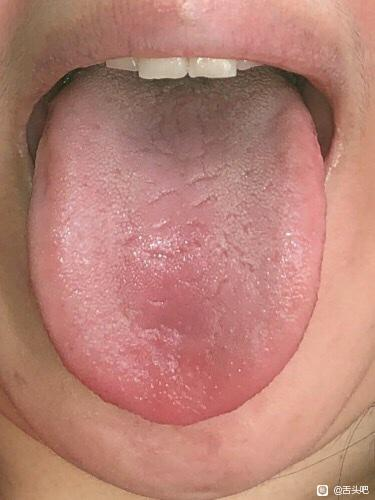baitaishe: (27, 66, 328, 425)
liewenshe: (127, 105, 233, 202)
piweiao: (112, 269, 229, 360)
